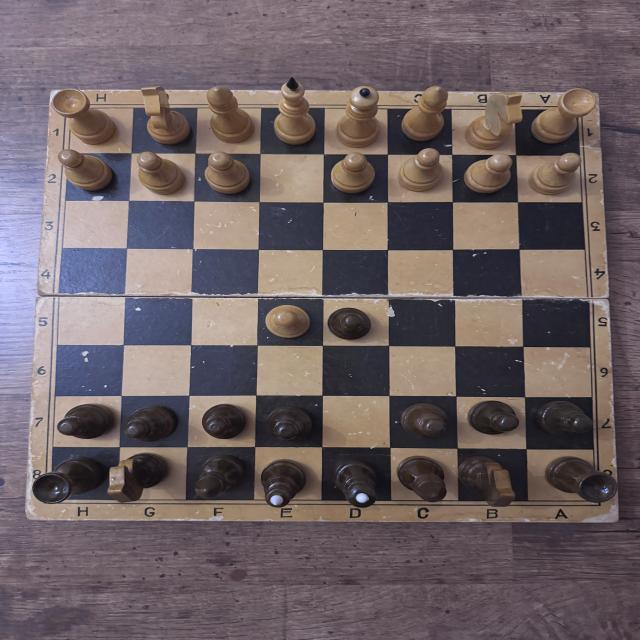black-bishop: (393, 456, 452, 503), (191, 456, 247, 500)
black-king: (256, 459, 309, 509)
black-knight: (457, 455, 517, 507), (108, 455, 170, 502)
black-pawn: (534, 400, 594, 440), (402, 400, 453, 446), (55, 402, 117, 439), (124, 402, 179, 441), (469, 400, 520, 437), (265, 405, 313, 444), (202, 403, 248, 440), (328, 306, 373, 341)
black-queen: (332, 456, 382, 509)
black-rook: (539, 454, 619, 504), (31, 455, 105, 504)
white-bishop: (206, 85, 256, 144), (401, 84, 448, 144)
white-king: (274, 76, 316, 146)
white-knight: (464, 92, 524, 150), (139, 86, 193, 146)
white-pawn: (55, 148, 114, 194), (203, 148, 252, 196), (134, 151, 186, 196), (529, 153, 579, 196), (462, 153, 513, 194), (397, 148, 443, 191), (331, 153, 377, 195), (264, 304, 311, 338)
white-queen: (335, 86, 384, 147)
white-rook: (531, 88, 598, 144), (53, 88, 117, 144)
